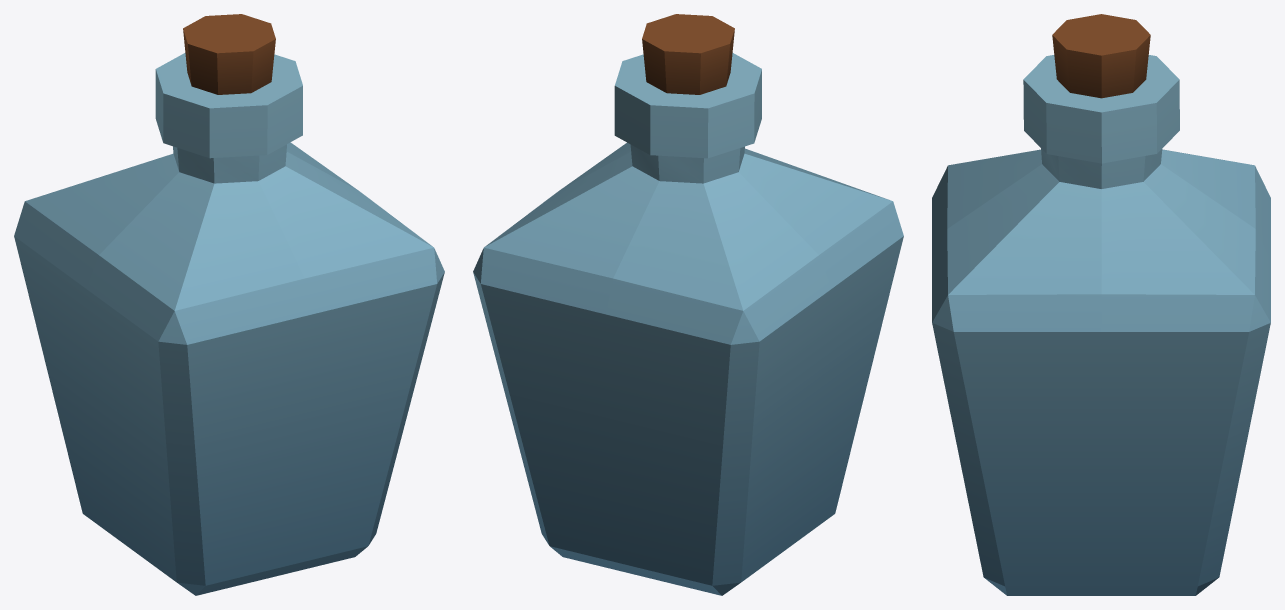
File: potion_014_blue.fbx
3 views of the same model, side by side, from view 1: azimuth 30°, elevation 25°; view 2: azimuth 150°, elevation 25°; view 3: azimuth 270°, elevation 25° (orthographic). The views are drawn at different scales.
Visible parts, largest first — view 1: potion_014_blue; view 2: potion_014_blue; view 3: potion_014_blue.
Boxes of the visible parts, x1,y1,x2,y2 form: potion_014_blue: (14,14,444,595); potion_014_blue: (473,14,903,595); potion_014_blue: (932,14,1270,595).
Bounding box in the file's own units: 0.1291 × 0.2192 × 0.1291.
